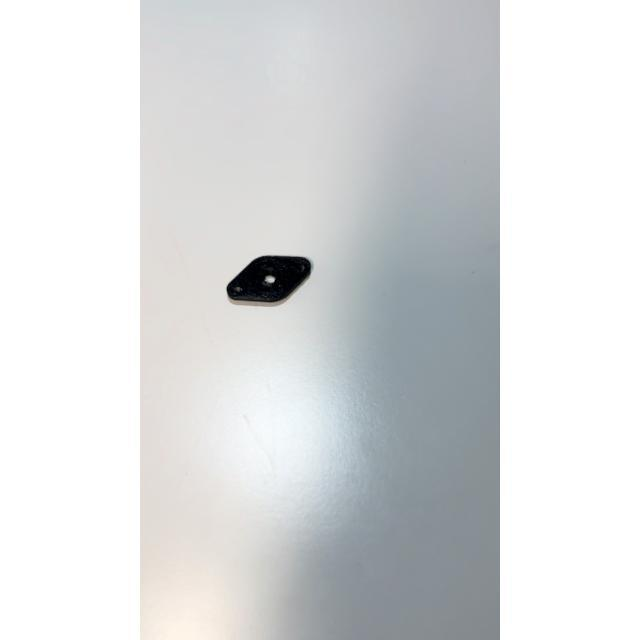Pieza2: (218, 243, 324, 315)
